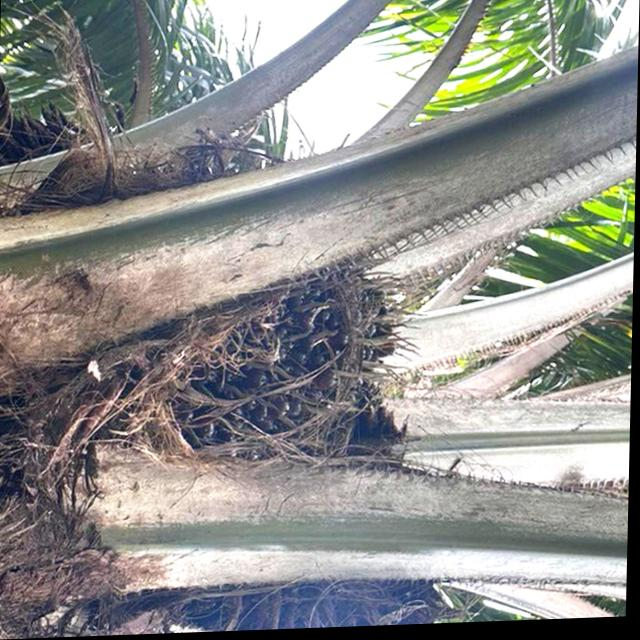ripe: (167, 243, 437, 465)
